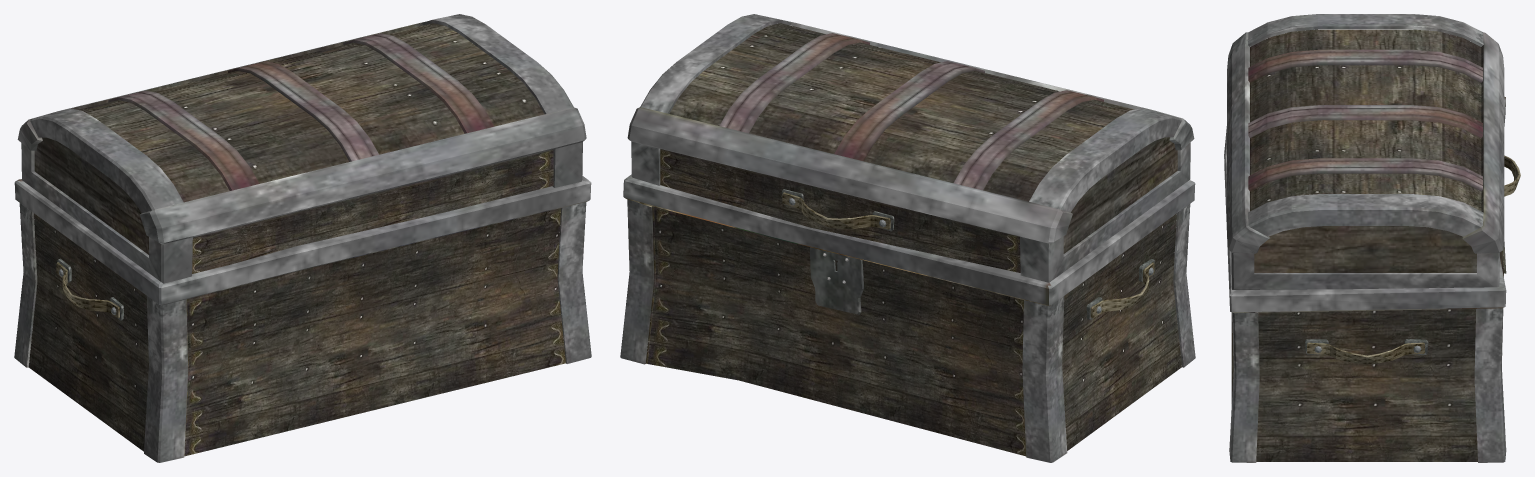
Rendered from TW2_9_ADDONS_11_1-transformed.glb.
3 views of the same model, side by side, from view 1: azimuth 30°, elevation 25°; view 2: azimuth 150°, elevation 25°; view 3: azimuth 270°, elevation 25° (orthographic). The views are drawn at different scales.
Parts seen in each view (by area): view 1: default; view 2: default; view 3: default.
Boxes of the visible parts, x1,y1,x2,y2 form: default: (14, 14, 591, 462); default: (620, 14, 1195, 462); default: (1224, 14, 1520, 462).
Bounding box in the file's own units: 1.32 × 0.7171 × 0.7676.
Materials: 2 (2 with a texture image).
